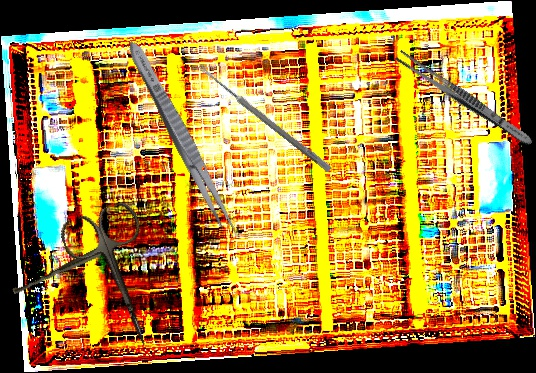Dressing Forceps: (120, 35, 244, 241), (393, 49, 536, 149)
Iris Scissors: (57, 198, 179, 360)
Surgical Spoon: (196, 63, 333, 173)
Tissue Forceps: (12, 234, 124, 299)
